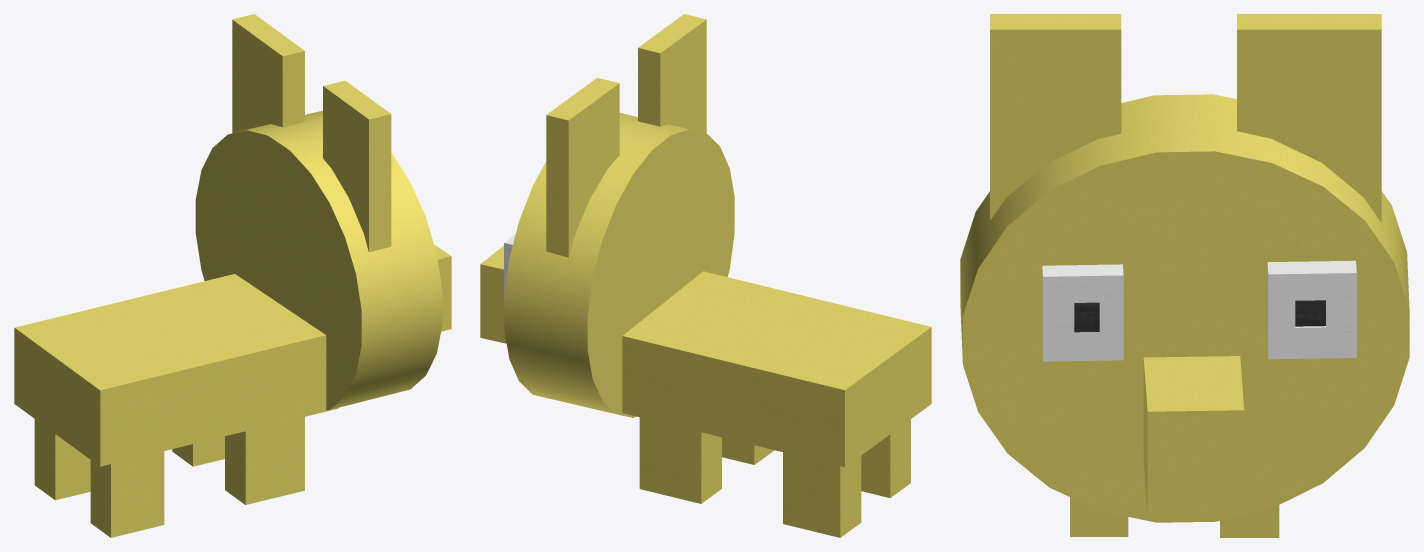
File: gold pig.dae
3 renders of one model, left to right at view 1: azimuth 30°, elevation 25°; view 2: azimuth 150°, elevation 25°; view 3: azimuth 270°, elevation 25°, orthographic. The views are drawn at different scales.
Parts seen in each view (by area): view 1: SketchUp_001, SketchUp, SketchUp_004, SketchUp_010, SketchUp_011, SketchUp_013, SketchUp_014, SketchUp_012, SketchUp_008; view 2: SketchUp_001, SketchUp, SketchUp_010, SketchUp_004, SketchUp_012, SketchUp_014, SketchUp_013, SketchUp_008, SketchUp_011; view 3: SketchUp, SketchUp_010, SketchUp_004, SketchUp_008, SketchUp_017, SketchUp_006, SketchUp_011, SketchUp_012, SketchUp_005, SketchUp_007, SketchUp_015, SketchUp_016.
Boxes of the visible parts, bbox=[...] form: SketchUp_001: bbox=[14, 274, 338, 466]; SketchUp: bbox=[195, 110, 442, 410]; SketchUp_004: bbox=[323, 80, 391, 251]; SketchUp_010: bbox=[232, 14, 304, 133]; SketchUp_011: bbox=[225, 417, 304, 504]; SketchUp_013: bbox=[90, 451, 164, 537]; SketchUp_014: bbox=[34, 419, 90, 500]; SketchUp_012: bbox=[172, 436, 224, 466]; SketchUp_008: bbox=[434, 244, 451, 331]; SketchUp_001: bbox=[622, 271, 931, 467]; SketchUp: bbox=[504, 113, 734, 417]; SketchUp_010: bbox=[546, 77, 619, 257]; SketchUp_004: bbox=[638, 14, 706, 132]; SketchUp_012: bbox=[639, 417, 721, 503]; SketchUp_014: bbox=[783, 452, 861, 537]; SketchUp_013: bbox=[861, 419, 910, 497]; SketchUp_008: bbox=[480, 245, 506, 343]; SketchUp_011: bbox=[722, 437, 774, 464]; SketchUp: bbox=[960, 94, 1409, 522]; SketchUp_010: bbox=[1237, 14, 1381, 222]; SketchUp_004: bbox=[990, 14, 1121, 219]; SketchUp_008: bbox=[1143, 356, 1244, 515]; SketchUp_017: bbox=[1268, 273, 1356, 359]; SketchUp_006: bbox=[1043, 275, 1123, 361]; SketchUp_011: bbox=[1070, 497, 1128, 536]; SketchUp_012: bbox=[1220, 505, 1279, 537]; SketchUp_005: bbox=[1267, 260, 1356, 356]; SketchUp_007: bbox=[1042, 264, 1123, 358]; SketchUp_015: bbox=[1295, 300, 1325, 326]; SketchUp_016: bbox=[1074, 302, 1099, 332].
Bounding box in the file's own units: 1.67 × 1.18 × 1.6.
4 materials, 3 textured.
